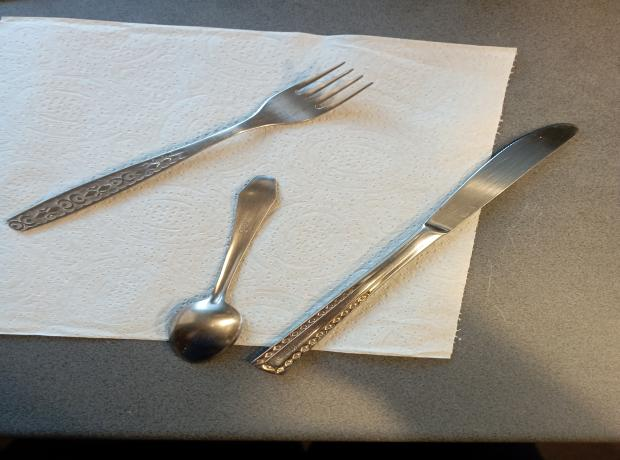metal: (250, 122, 582, 376), (6, 59, 378, 233), (170, 174, 282, 364)
